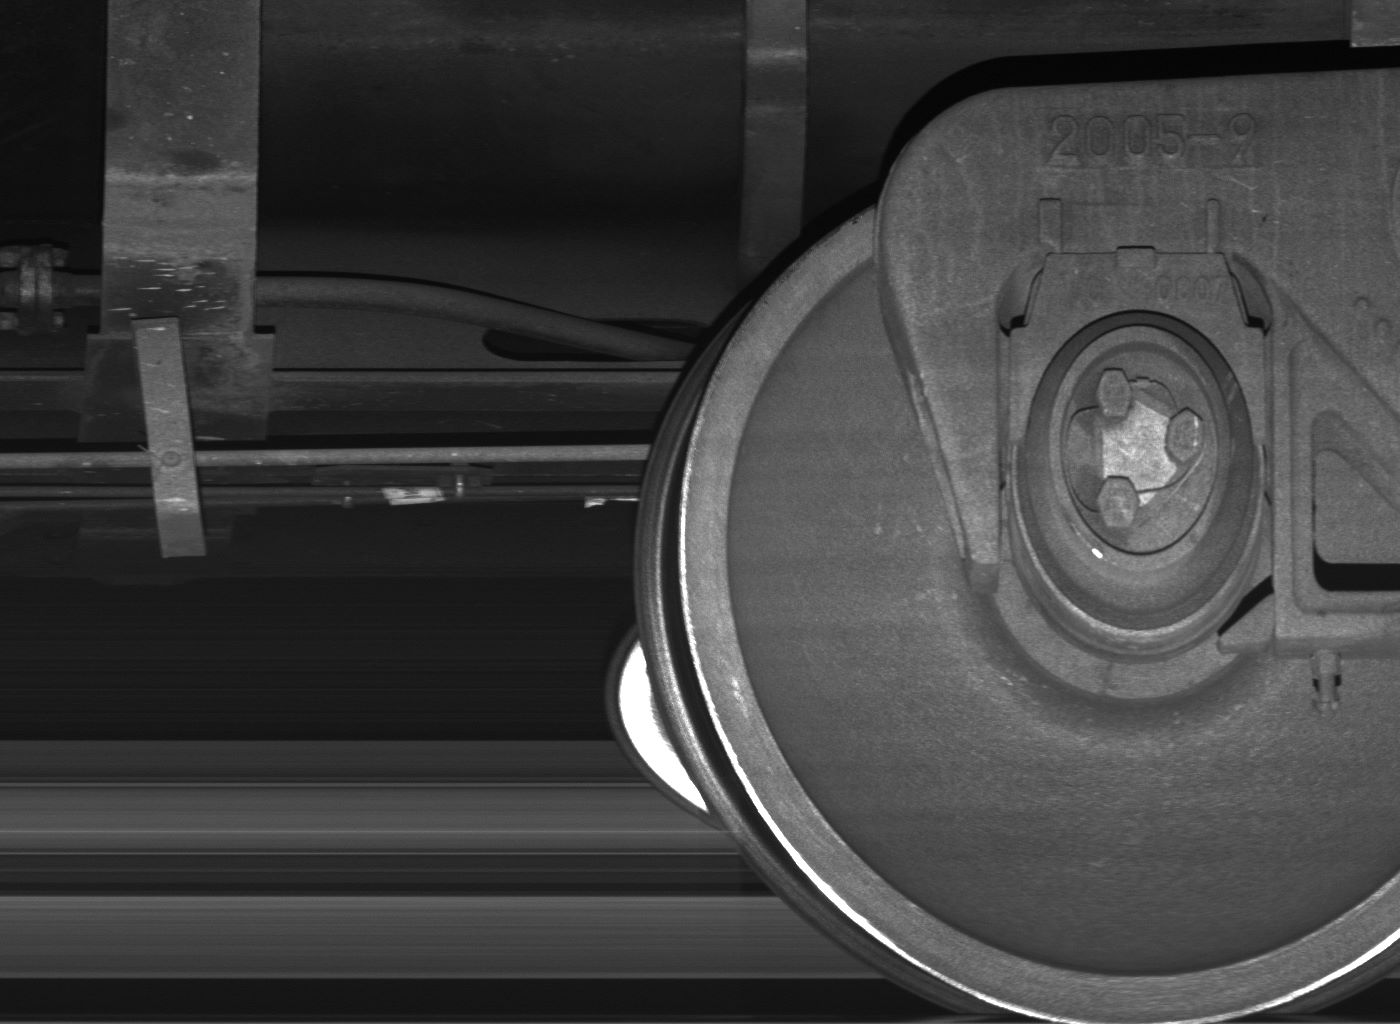normal: (130, 317, 208, 559)
